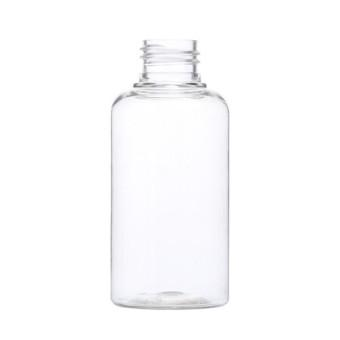bottle: (109, 36, 228, 308)
